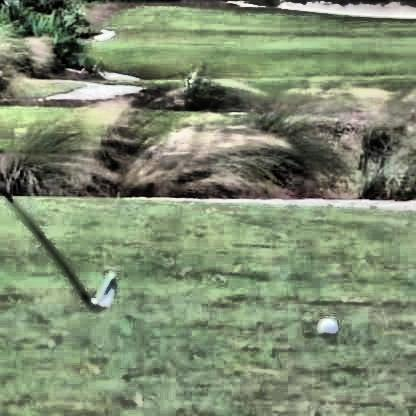golfball: (314, 315, 335, 336)
